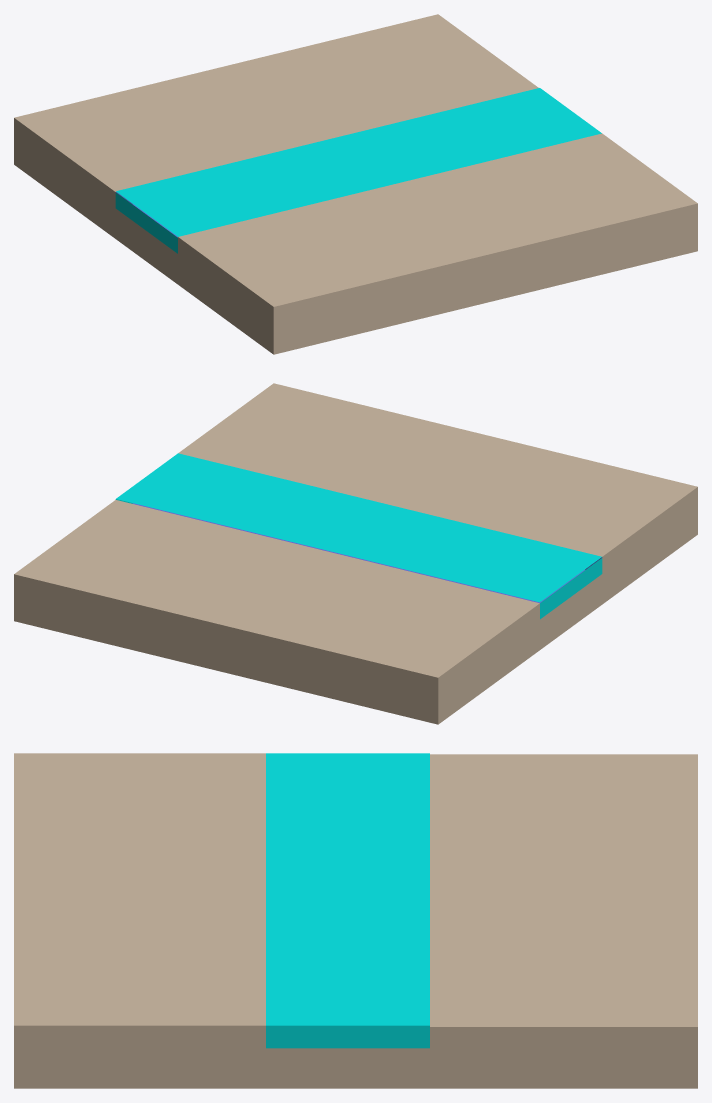
The model's file is 3D_FILE_OMADA3.glb.
3 renders of one model, top to bottom at view 1: azimuth 30°, elevation 25°; view 2: azimuth 150°, elevation 25°; view 3: azimuth 270°, elevation 25°, orthographic. The views are drawn at different scales.
Parts seen in each view (by area): view 1: Node7, Node5, Node13, Node3, Node1, Node11; view 2: Node7, Node5, Node13, Node2, Node1, Node11, Node4; view 3: Node7, Node5, Node13, Node9, Node12.
Boxes of the visible parts, box(x1,y1,x2,y2) form: Node7: box(14, 14, 538, 191); Node5: box(178, 133, 697, 306); Node13: box(116, 88, 601, 236); Node3: box(273, 203, 697, 354); Node1: box(14, 118, 273, 354); Node11: box(115, 192, 177, 253); Node7: box(14, 500, 539, 677); Node5: box(178, 383, 697, 556); Node13: box(116, 453, 601, 602); Node2: box(14, 574, 438, 724); Node1: box(438, 487, 697, 724); Node11: box(540, 558, 602, 619); Node4: box(132, 503, 584, 603); Node7: box(430, 754, 697, 1026); Node5: box(14, 753, 265, 1025); Node13: box(266, 753, 429, 1025); Node9: box(14, 1025, 697, 1088); Node12: box(266, 1025, 429, 1048).
Size of the model in its own units: 160 by 17.25 by 170.
